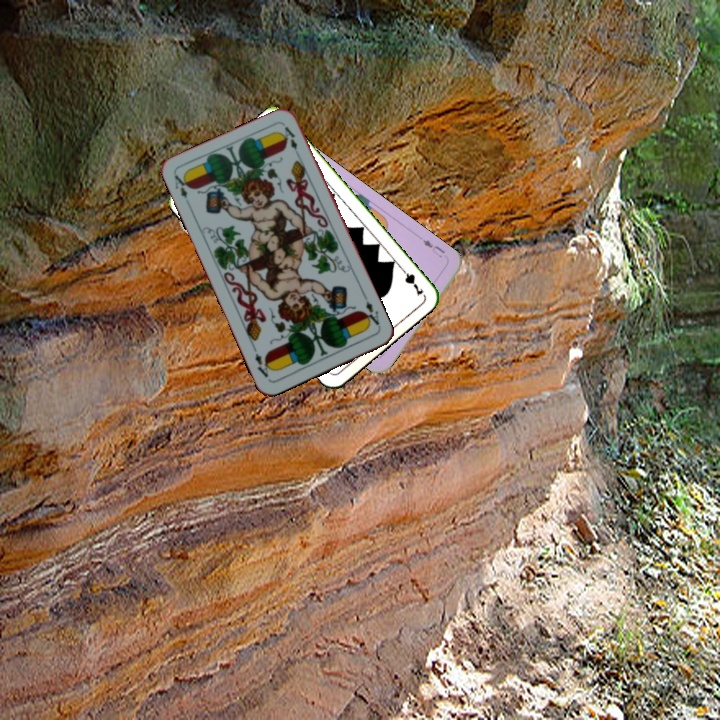EA: (358, 292, 383, 331), (170, 170, 192, 201)
EU: (419, 235, 448, 261)
G7: (396, 262, 427, 299)
